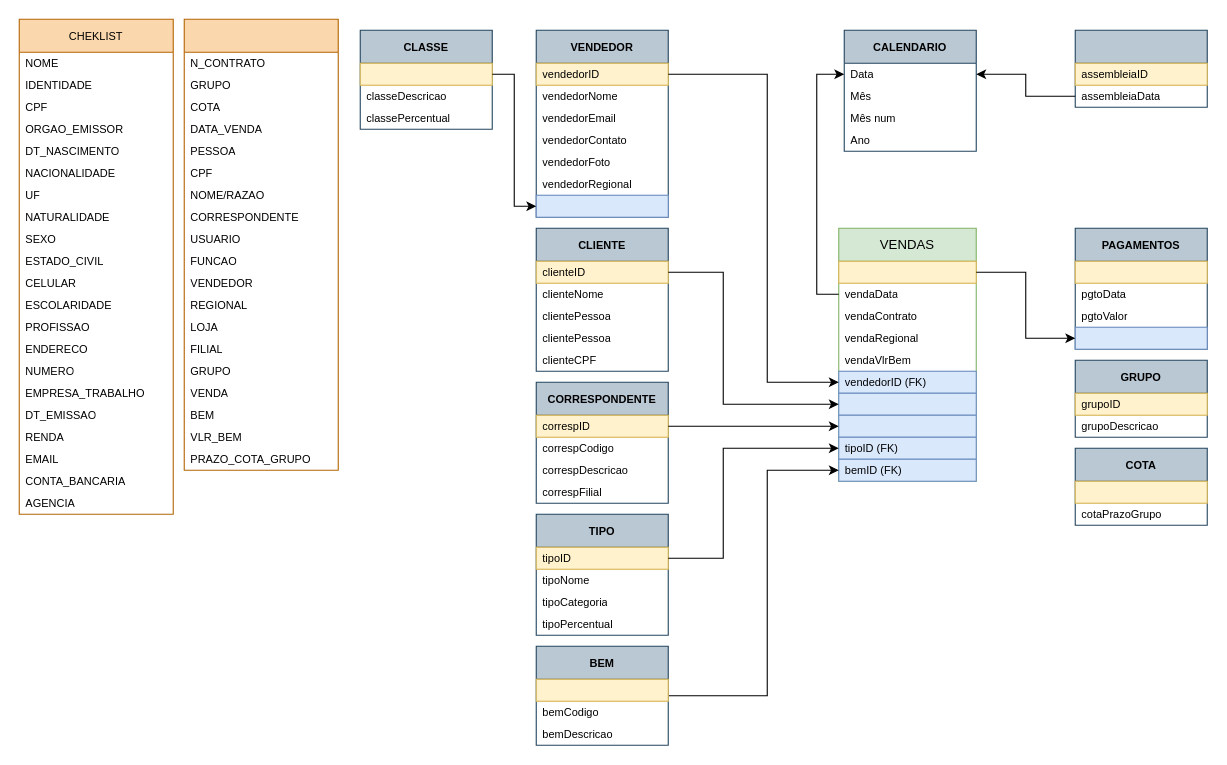
This 1227x765 diagram has some shape labels left out. Each missing label, with the box of its shape:
ASSEMBLEIAS: (1074, 29, 1207, 107)
bemID: (535, 678, 668, 701)
classeID: (359, 62, 492, 85)
classeID (FK): (535, 194, 668, 217)
clienteID (FK): (838, 392, 976, 415)
correspID (FK): (838, 414, 976, 437)
cotaID: (1074, 480, 1207, 503)
pgtoID: (1074, 260, 1207, 283)
vendaID: (838, 260, 976, 283)
vendaID (FK): (1074, 326, 1207, 349)
VENDAS BB: (183, 18, 338, 470)
